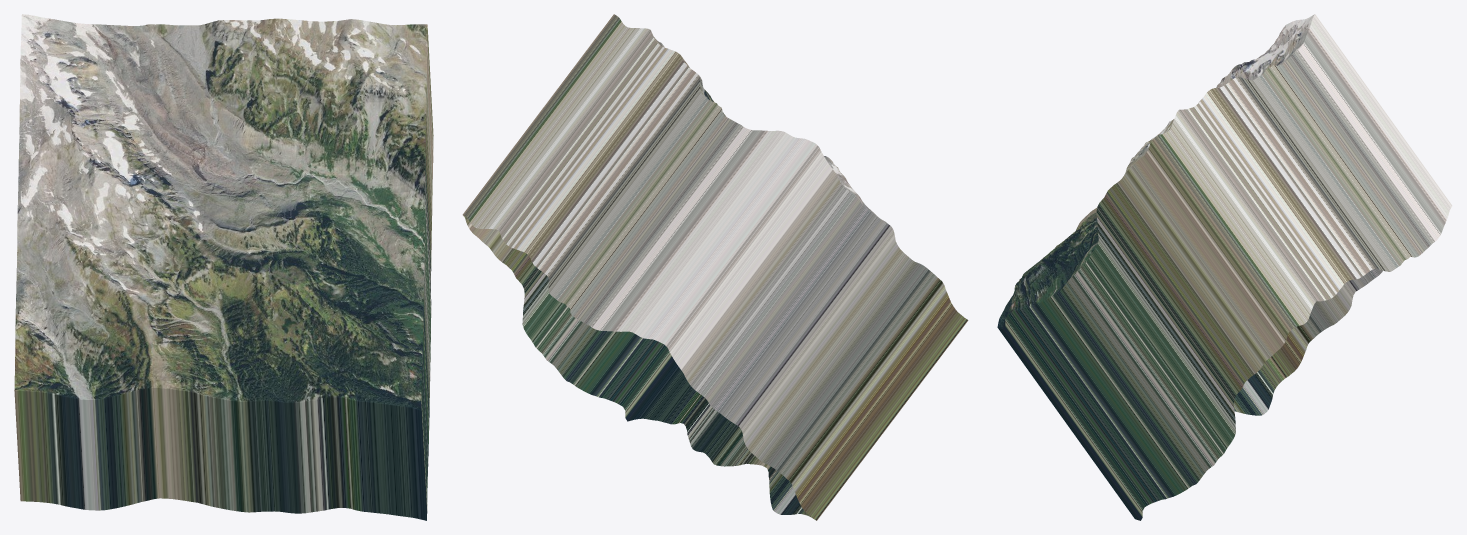
The picture shows the model from 3 angles, left to right: view 1: azimuth 30°, elevation 25°; view 2: azimuth 150°, elevation 25°; view 3: azimuth 270°, elevation 25°; orthographic projection. The views are drawn at different scales.
Size of the model in its own units: 5923 by 5511 by 5787.
Materials: 1 (1 with a texture image).
